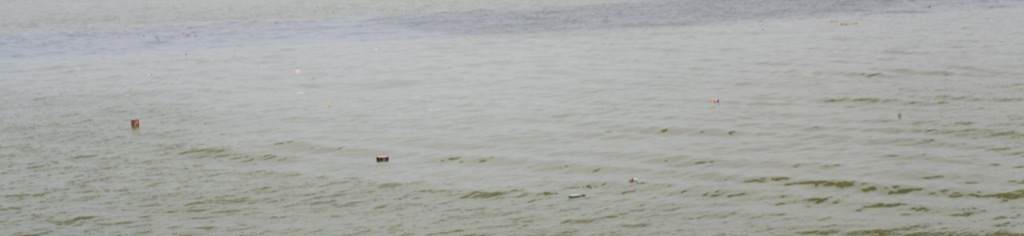plastic: (366, 147, 397, 171), (124, 111, 156, 133), (623, 172, 649, 190), (702, 94, 728, 111), (319, 95, 340, 114), (566, 188, 590, 203), (288, 65, 310, 78), (894, 108, 905, 126), (294, 83, 306, 98)
